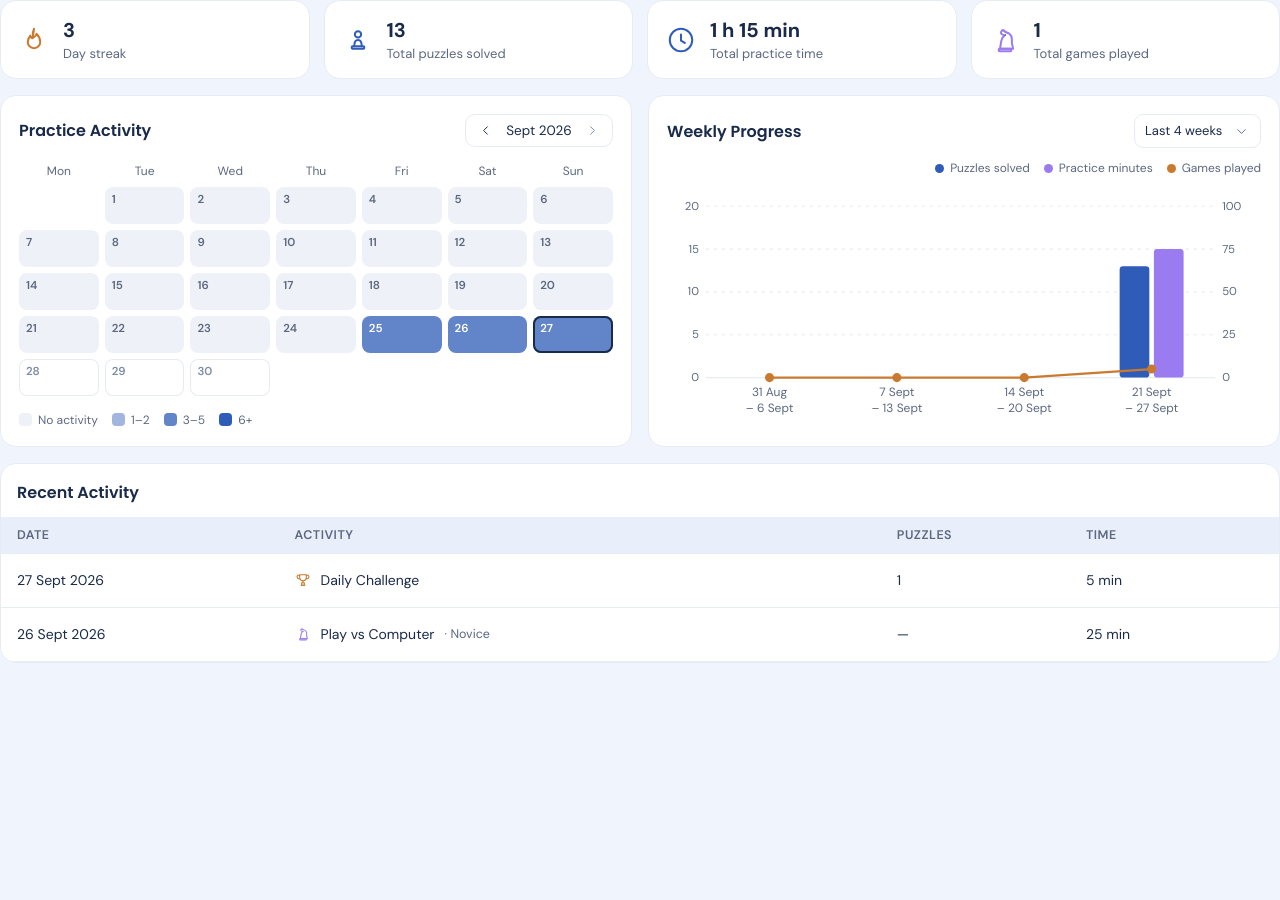
Test case: the practice tab › shows a day's detail on hover, and nothing until then
Hover over the cell "26": (487, 334) [448,316,527,353]
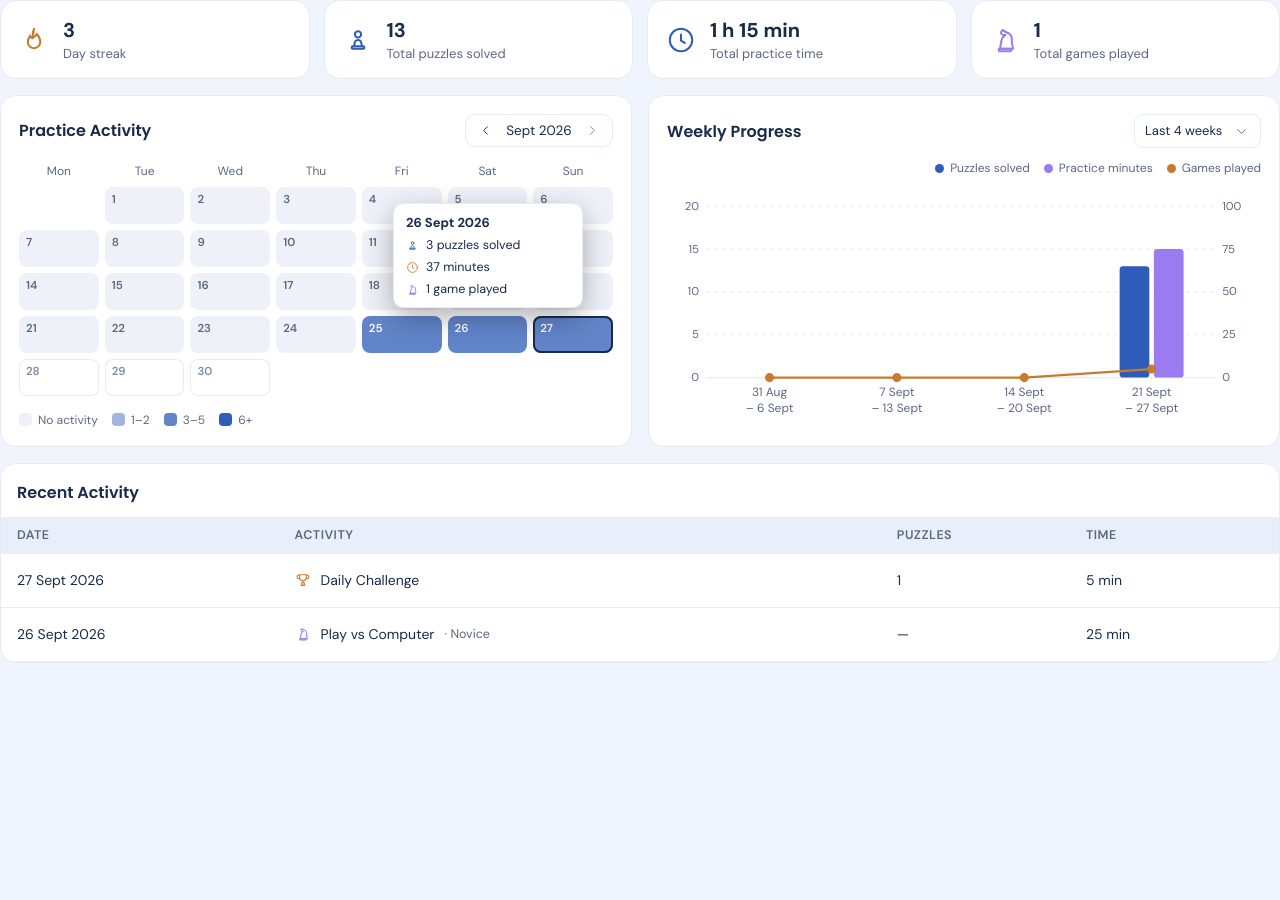
Check: the text "26 Sept 2026" below "Tue" is shown, box [406,214,490,231]
Check: the text "3 puzzles solved" is shown, box [406,237,520,253]
Check: the text "1 game played" is shown, box [406,281,507,297]
Move the pointer off the table, box [393,203,583,308]
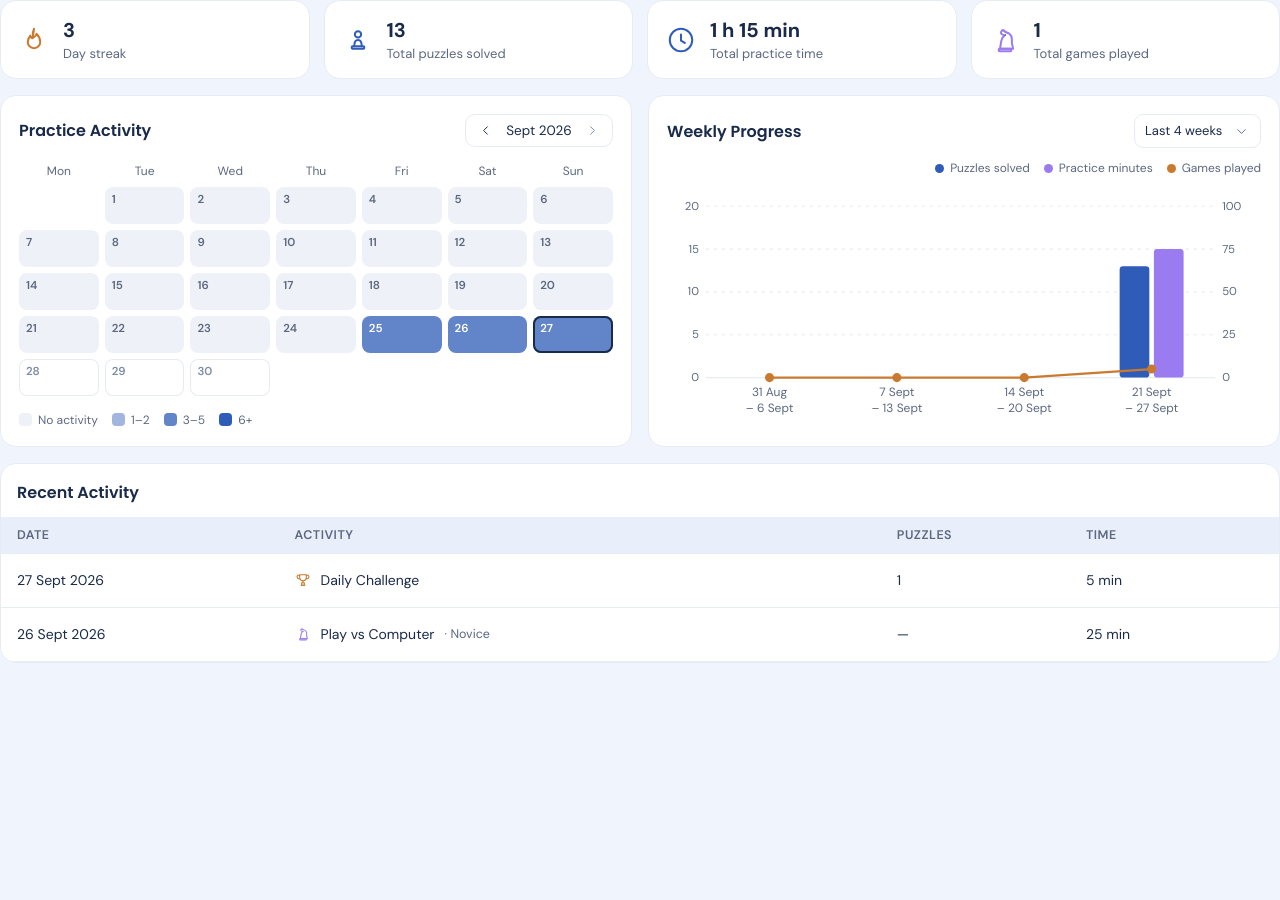
Check: the tooltip "26 Sept 2026 3 puzzles solved 37 minutes 1 game played" is gone
